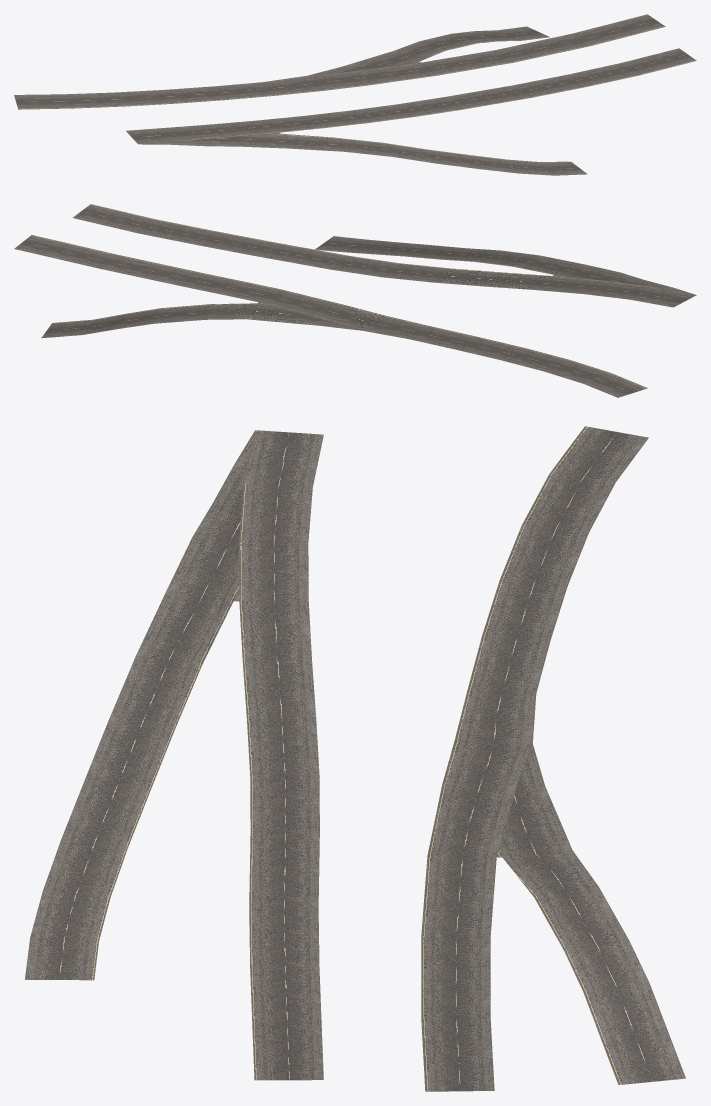
Rendered from cs_lodroads17.obj.
The picture shows the model from 3 angles, top to bottom: view 1: azimuth 30°, elevation 25°; view 2: azimuth 150°, elevation 25°; view 3: azimuth 270°, elevation 25°; orthographic projection. The views are drawn at different scales.
Parts seen in each view (by area): view 1: cs_lodroads17; view 2: cs_lodroads17; view 3: cs_lodroads17.
Boxes of the visible parts, bbox=[...] form: cs_lodroads17: bbox=[14, 14, 696, 175]; cs_lodroads17: bbox=[14, 204, 696, 397]; cs_lodroads17: bbox=[25, 426, 685, 1091].
Bounding box in the file's own units: 243 × 31.86 × 114.
1 material, 1 textured.
